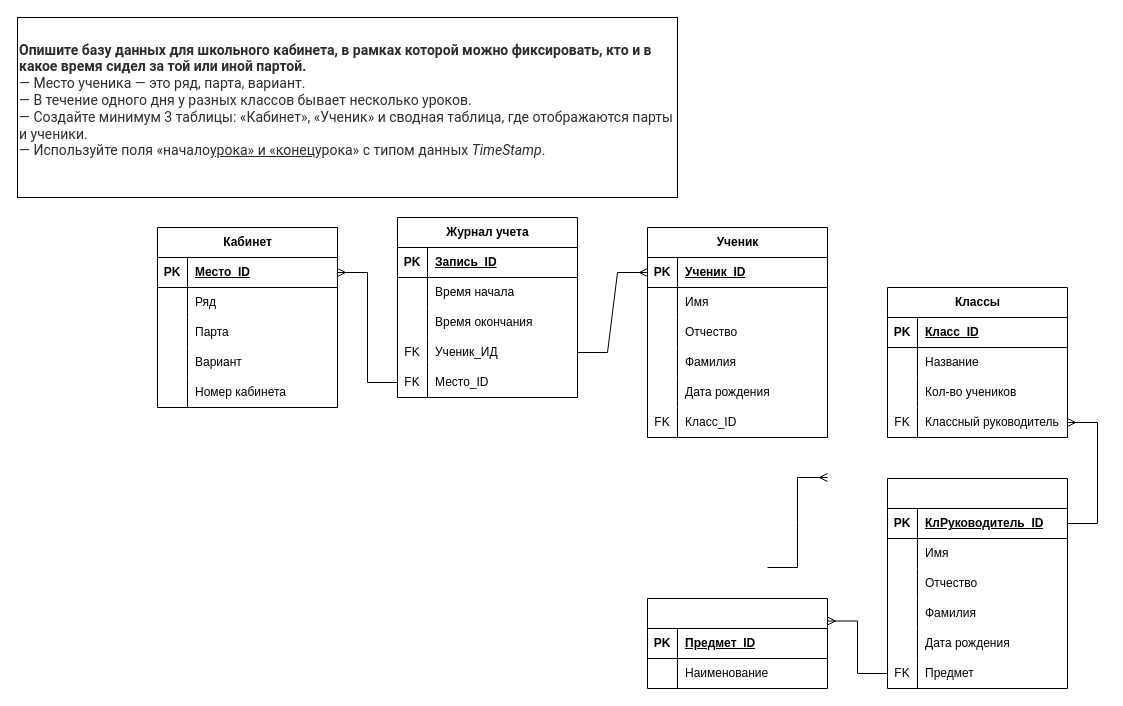
This 1123x706 diagram has some shape labels left out. The box of each missing label's shape, as (x1, y1, x2, y2) in pixels:
Классные руководители: (886, 478, 1068, 688)
Предметы: (646, 598, 828, 688)
